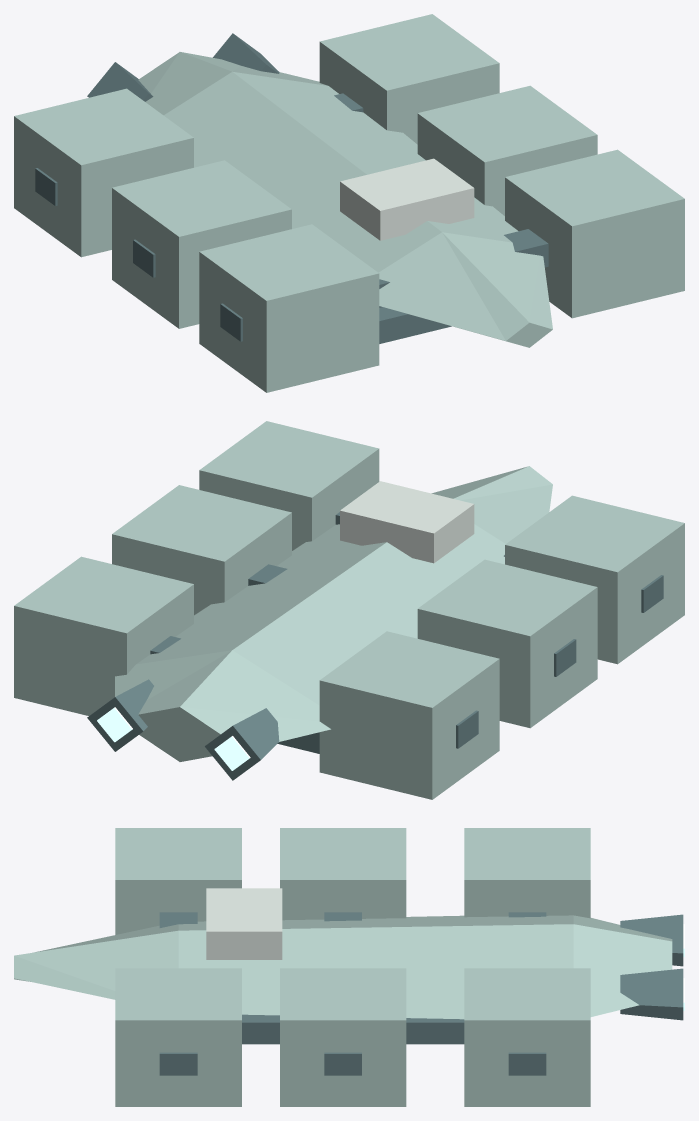
3 views of the same model, one above another, from view 1: azimuth 30°, elevation 25°; view 2: azimuth 150°, elevation 25°; view 3: azimuth 270°, elevation 25° (orthographic). The views are drawn at different scales.
Bounding box in the file's own units: 7.78 × 1.88 × 11.34.
